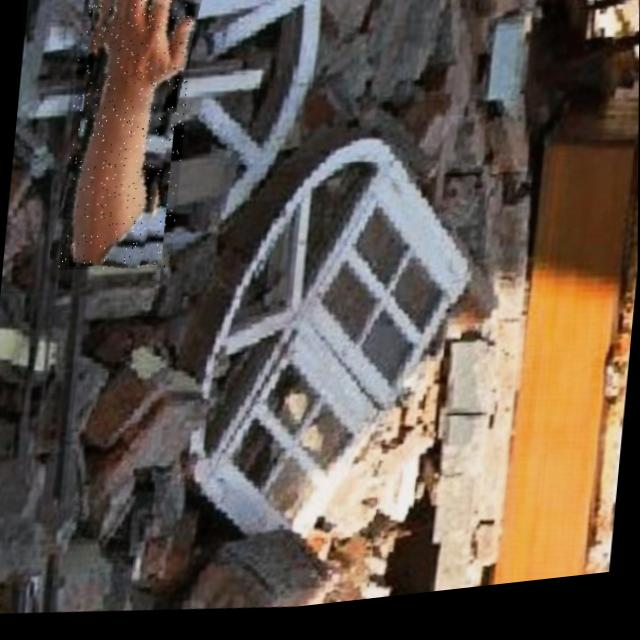Person in Rubble: (56, 0, 197, 281)
